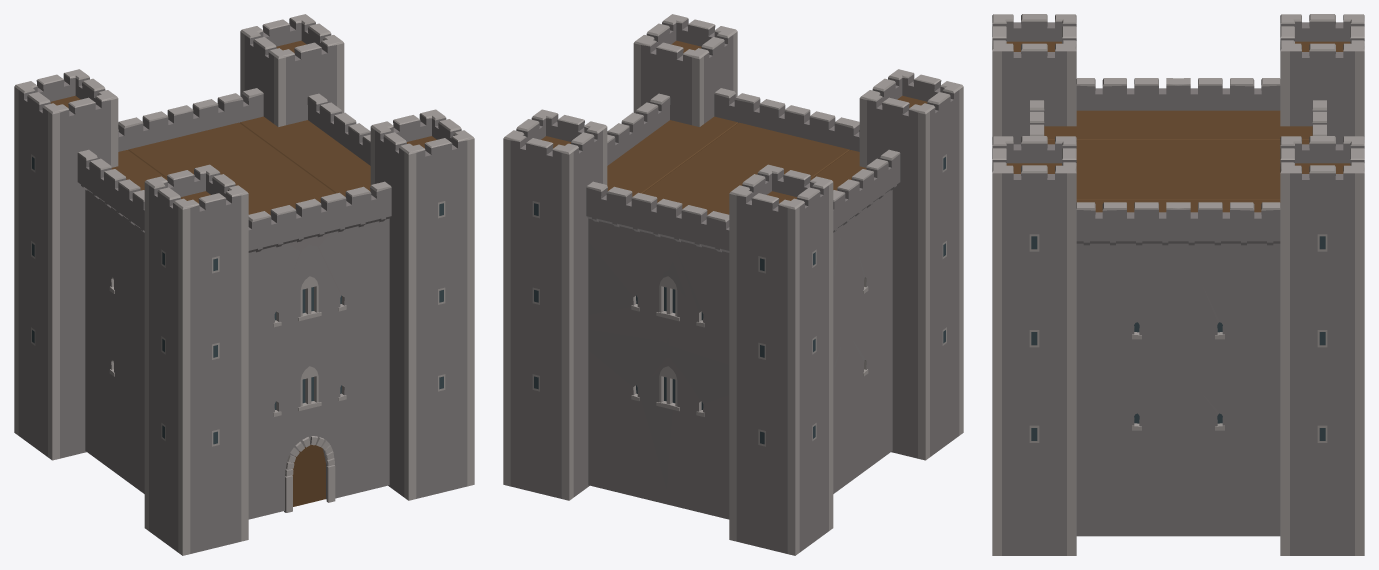
File: medieval_castle-medieval.fbx
The picture shows the model from 3 angles, left to right: view 1: azimuth 30°, elevation 25°; view 2: azimuth 150°, elevation 25°; view 3: azimuth 270°, elevation 25°; orthographic projection. The views are drawn at different scales.
Visible parts, largest first — view 1: medieval_castle_medieval; view 2: medieval_castle_medieval; view 3: medieval_castle_medieval.
Part boxes in pixels (x1,y1,x2,y2): medieval_castle_medieval: (14, 14, 474, 555); medieval_castle_medieval: (503, 14, 963, 555); medieval_castle_medieval: (992, 14, 1364, 555).
Size of the model in its own units: 176 by 200 by 176.
